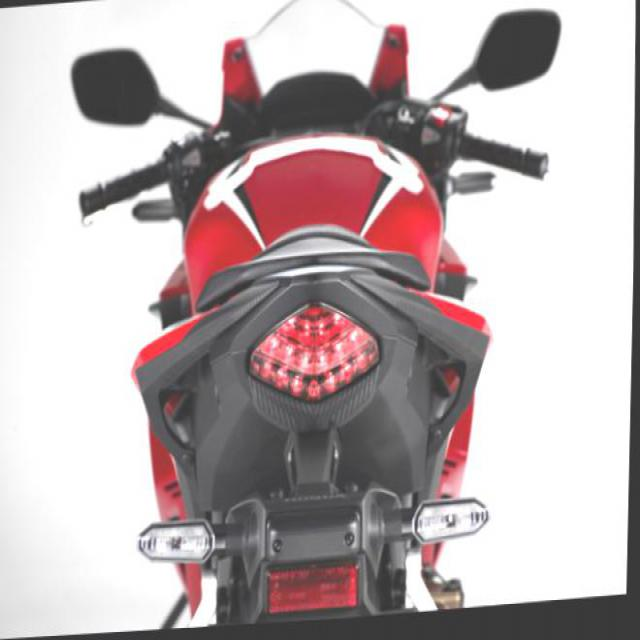CBR500R: (59, 0, 572, 635)
